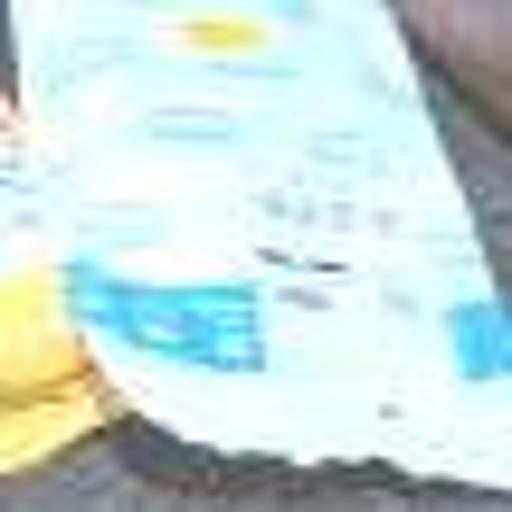Amazon: (26, 15, 511, 480)
